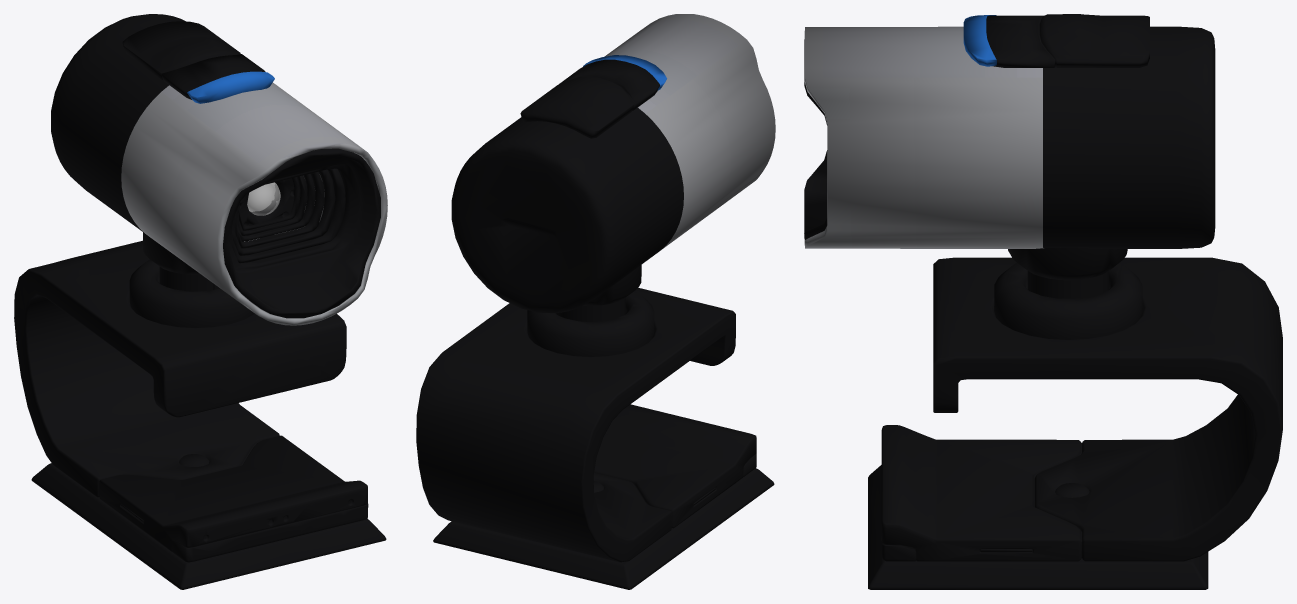
Rendered from dev-webcam_lod2.glb.
The picture shows the model from 3 angles, left to right: view 1: azimuth 30°, elevation 25°; view 2: azimuth 150°, elevation 25°; view 3: azimuth 270°, elevation 25°; orthographic projection. The views are drawn at different scales.
Visible parts, largest first — view 1: body; view 2: body; view 3: body.
Boxes of the visible parts, bbox=[...] form: body: bbox=[14, 14, 387, 589]; body: bbox=[416, 14, 775, 589]; body: bbox=[804, 14, 1282, 589].
Bounding box in the file's own units: 0.0474 × 0.0999 × 0.0846.
Materials: 6 (1 with a texture image).
